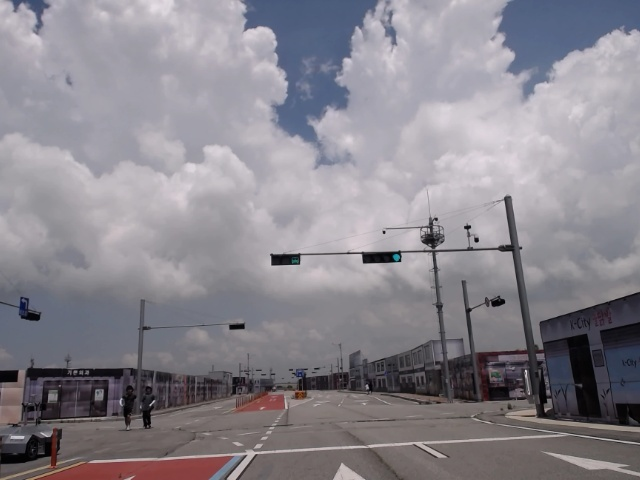straight_green_4: (363, 252, 400, 263)
